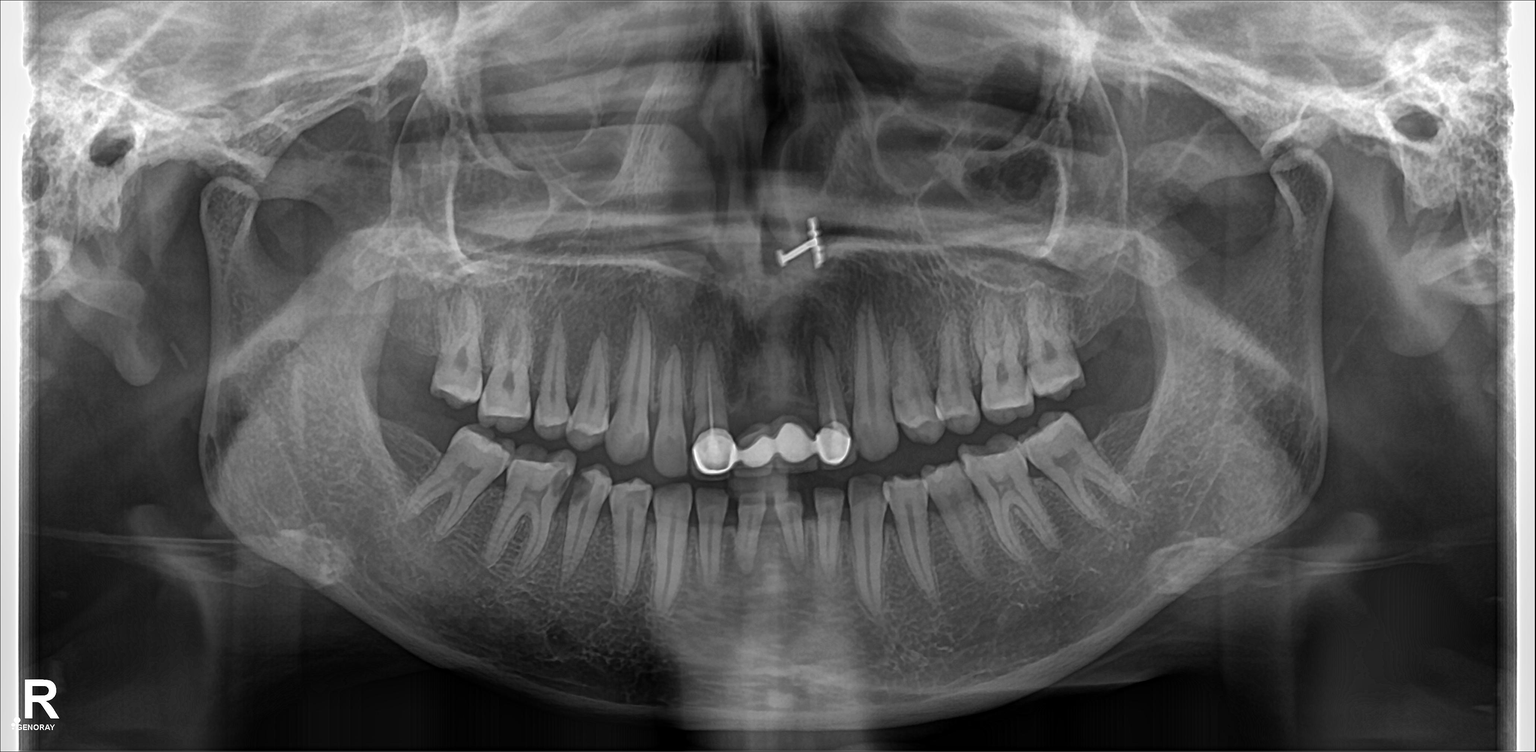Dental Caries: (557, 463, 590, 506)
Endodontically Treated Tooth: (769, 337, 812, 474), (683, 352, 730, 472), (730, 344, 772, 471), (814, 341, 851, 462)
Missing Tooth: (382, 266, 439, 386), (374, 408, 439, 490), (1117, 277, 1161, 375), (1076, 274, 1114, 375), (1097, 396, 1147, 472)
